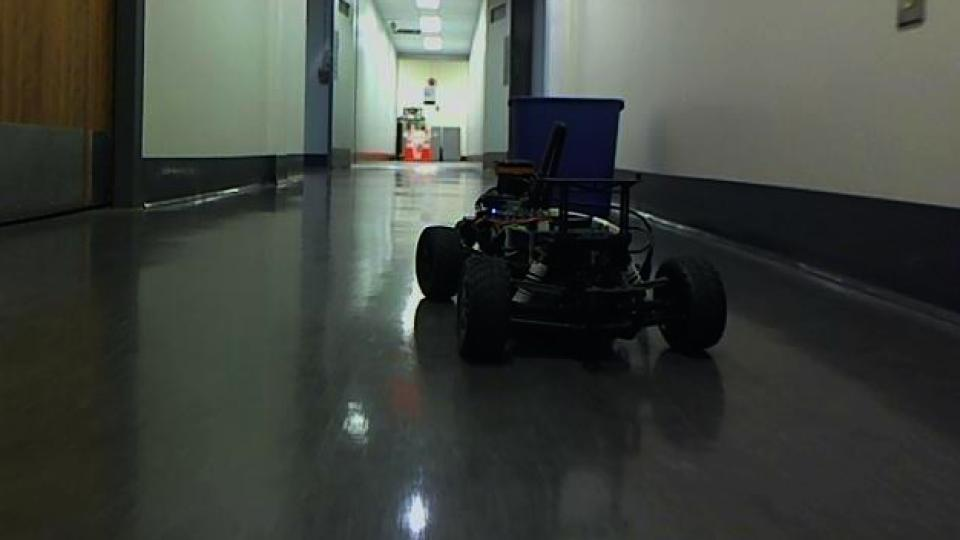car: (412, 95, 732, 371)
